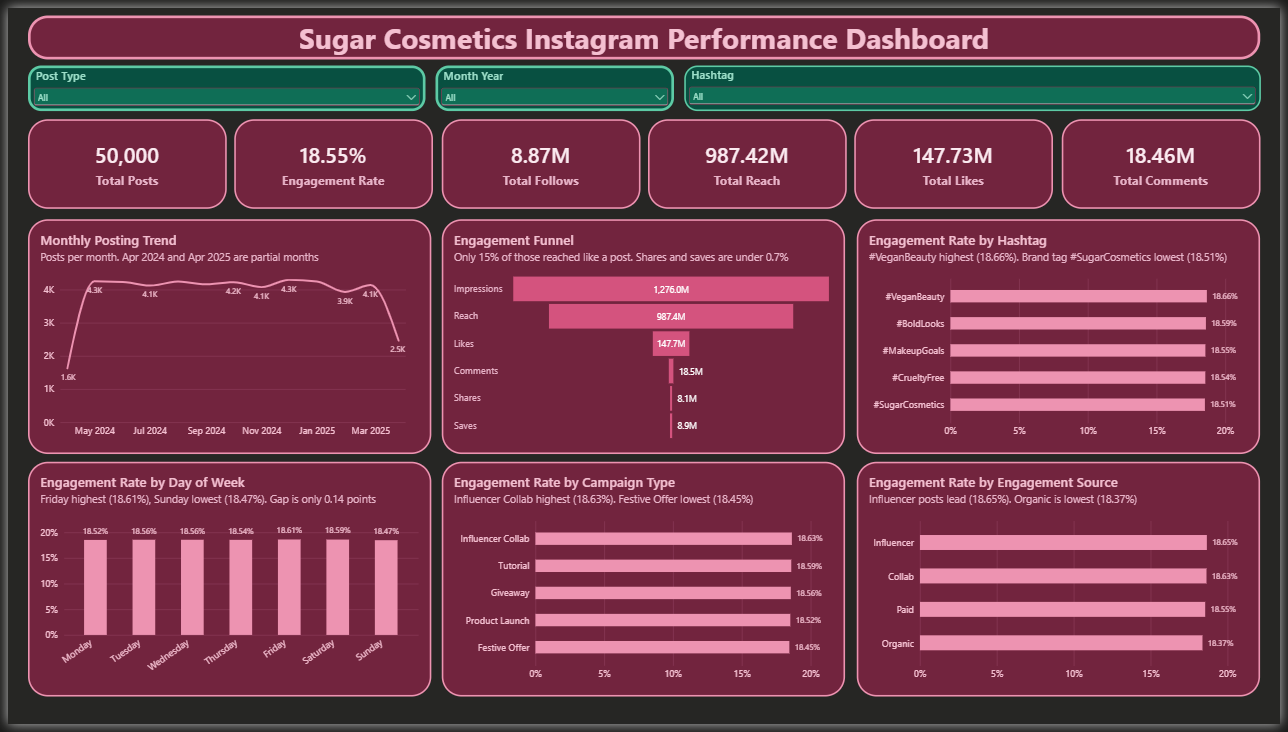

This screenshot's page, from the dashboard's own definition file:
{"tool":"powerbi","page":{"name":"Dashboard","canvas":[1920,1080],"ordinal":6},"visuals":[{"type":"card","fields":{"Values":["Posts.Total Posts"]},"box":[30,168,300,135],"z":0},{"type":"card","fields":{"Values":["Posts.Engagement Rate"]},"box":[342,168,300,135],"z":1000},{"type":"card","fields":{"Values":["Posts.Total Likes"]},"box":[1278,168,300,135],"z":2000},{"type":"card","fields":{"Values":["Posts.Total Comments"]},"box":[1590,168,300,135],"z":3000},{"type":"card","fields":{"Values":["Posts.Total Reach"]},"box":[966,168,300,135],"z":4000},{"type":"card","fields":{"Values":["Posts.Total Follows"]},"box":[654,168,300,135],"z":5000},{"type":"lineChart","title":"Monthly Posting Trend","fields":{"Category":["Posts.Month Start"],"Y":["Posts.Total Posts"]},"box":[30,318,609,354],"z":6000},{"type":"clusteredColumnChart","title":"Engagement Rate by Day of Week","fields":{"Category":["Posts.Weekday"],"Y":["Posts.Engagement Rate"]},"box":[30,684,609,354],"z":7000},{"type":"funnel","title":"Engagement Funnel","fields":{"Category":["Funnel Stages.Stage"],"Y":["Funnel Stages.Funnel Value"]},"box":[655,318,609,354],"z":8000},{"type":"clusteredBarChart","title":"Engagement Rate by Hashtag","fields":{"Category":["Hashtags.Hashtag"],"Y":["Posts.Engagement Rate"]},"box":[1281,318,609,354],"z":9000},{"type":"slicer","title":"Post Type","fields":{"Values":["Posts.Post Type"]},"box":[30,87,600,69],"z":10000},{"type":"slicer","fields":{"Values":["Posts.Month Year"]},"box":[645,87,360,69],"z":11000},{"type":"slicer","fields":{"Values":["Hashtags.Hashtag"]},"box":[1020,87,870,69],"z":12000},{"type":"clusteredBarChart","title":"Engagement Rate by Campaign Type","fields":{"Category":["Posts.Campaign Type"],"Y":["Posts.Engagement Rate"]},"box":[655,684,609,354],"z":13000},{"type":"clusteredBarChart","title":"Engagement Rate by Engagement Source","fields":{"Category":["Posts.Engagement Source"],"Y":["Posts.Engagement Rate"]},"box":[1281,684,609,354],"z":14000},{"type":"textbox","box":[30,12,1860,66],"z":15000}]}

Visuals, with their boxes in screenshot pixels (x1, y1, x2, y2), scaled from the page's 1920x1080 canvas onto the 1288x732 screenshot:
card - Posts.Total Posts: <box>20,114,221,205</box>
card - Posts.Engagement Rate: <box>229,114,431,205</box>
card - Posts.Total Likes: <box>857,114,1059,205</box>
card - Posts.Total Comments: <box>1067,114,1268,205</box>
card - Posts.Total Reach: <box>648,114,849,205</box>
card - Posts.Total Follows: <box>439,114,640,205</box>
"Monthly Posting Trend" lineChart: <box>20,216,429,455</box>
"Engagement Rate by Day of Week" clusteredColumnChart: <box>20,464,429,704</box>
"Engagement Funnel" funnel: <box>439,216,848,455</box>
"Engagement Rate by Hashtag" clusteredBarChart: <box>859,216,1268,455</box>
"Post Type" slicer: <box>20,59,423,106</box>
slicer - Posts.Month Year: <box>433,59,674,106</box>
slicer - Hashtags.Hashtag: <box>684,59,1268,106</box>
"Engagement Rate by Campaign Type" clusteredBarChart: <box>439,464,848,704</box>
"Engagement Rate by Engagement Source" clusteredBarChart: <box>859,464,1268,704</box>
textbox: <box>20,8,1268,53</box>
